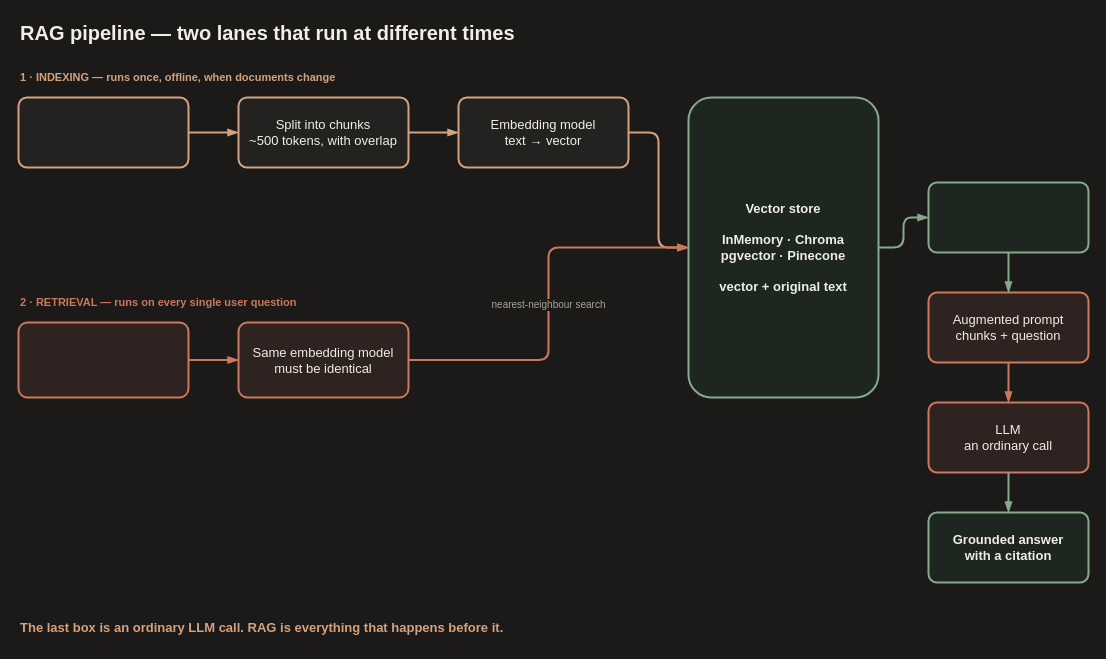
This 1106x659 diagram has some shape labels left out. The shapes that lost their labels are listed below. From the top down, each one's centre as x and y in pixels, then its label:
(103,132): Your docs PDFs · wiki · tickets
(1008,217): Top-k chunks the 3–5 closest
(103,359): User question "what is our refund window?"
